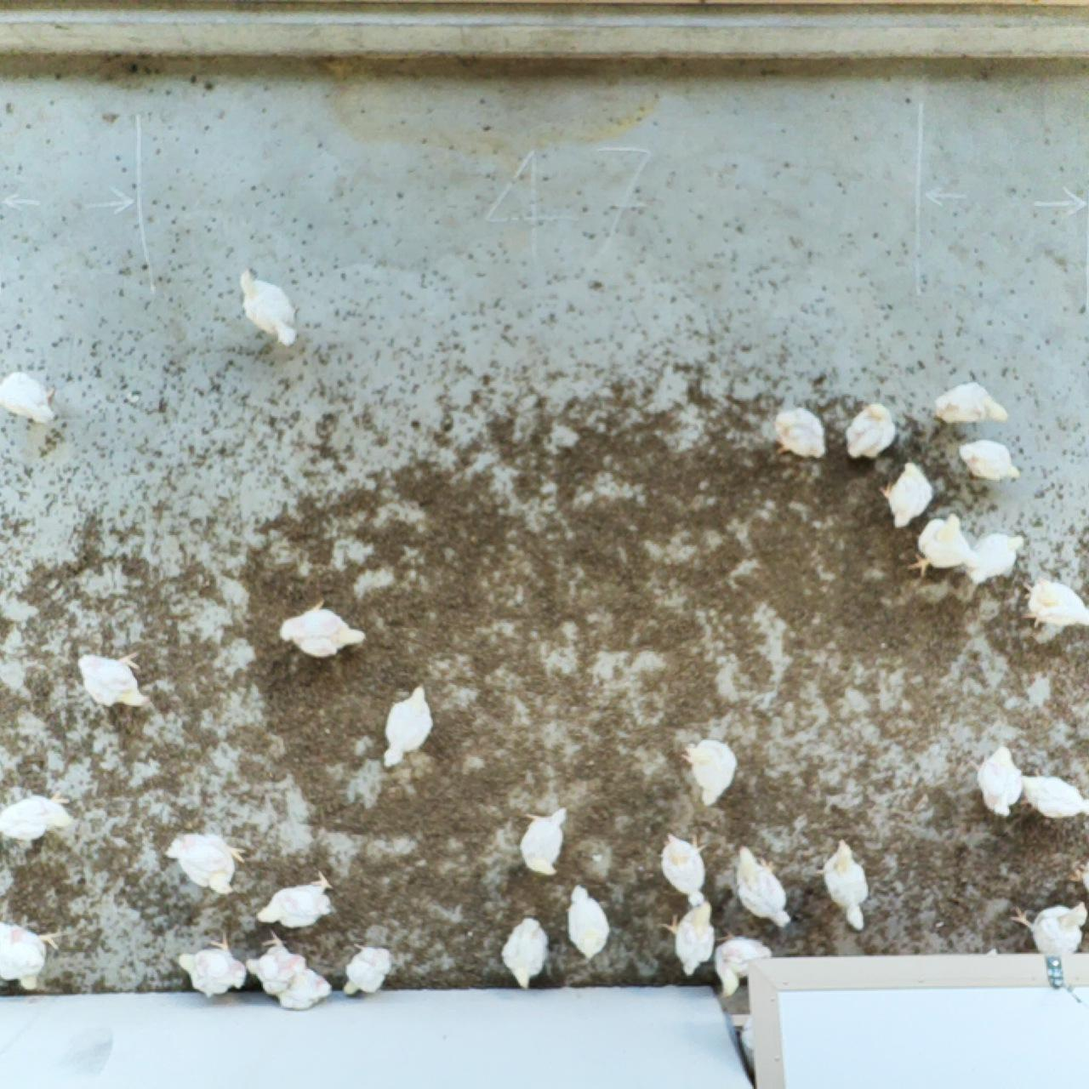chicken: (236, 927, 334, 1012), (723, 836, 797, 930), (277, 594, 369, 663), (164, 828, 248, 899), (814, 837, 875, 934), (236, 267, 304, 350), (378, 681, 438, 771), (1011, 899, 1089, 967), (706, 927, 778, 999), (254, 869, 335, 932), (174, 928, 249, 996), (0, 918, 66, 994), (0, 782, 77, 844), (74, 648, 152, 709), (512, 803, 572, 880), (498, 913, 556, 991), (661, 901, 719, 977), (969, 739, 1023, 820), (1012, 768, 1089, 824), (905, 512, 972, 575), (683, 736, 739, 809), (881, 456, 937, 529), (931, 377, 1010, 428), (1019, 575, 1089, 632), (564, 884, 614, 962), (660, 830, 708, 910), (965, 530, 1032, 586), (0, 363, 58, 427), (955, 434, 1025, 484), (842, 402, 901, 461), (341, 941, 395, 1003), (774, 402, 827, 464), (1066, 851, 1089, 899)
